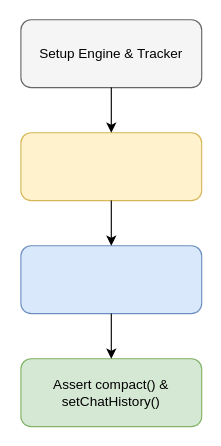
Image size: 221x446. Some labels were removed from this diagram. The shapes that lost their labels are listed below. From the top down, each one's centre as x and y in pixels, then its label:
(x=111, y=166): Mock Usage Payload
(x=111, y=279): Call updateContextUsageAfterTurn
